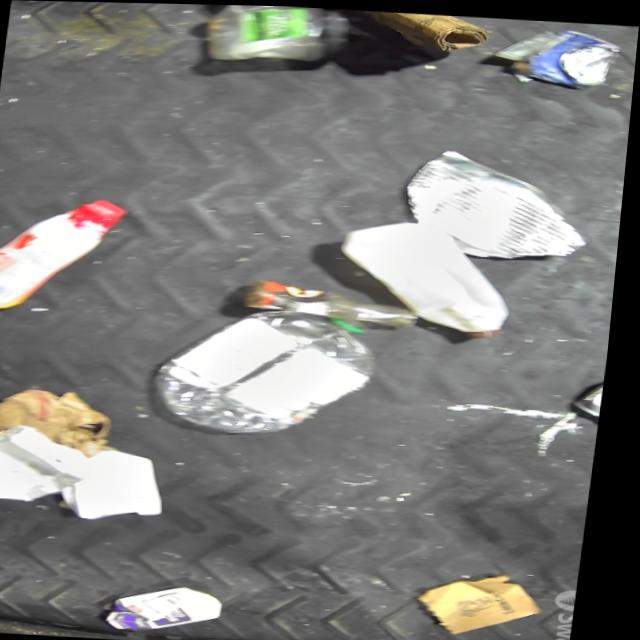can: (410, 144, 594, 260), (494, 23, 622, 87), (576, 364, 612, 427)
milk_jug: (326, 215, 527, 338)
non_white_jug: (0, 193, 136, 313)
plastic_bottle: (160, 302, 394, 437)
